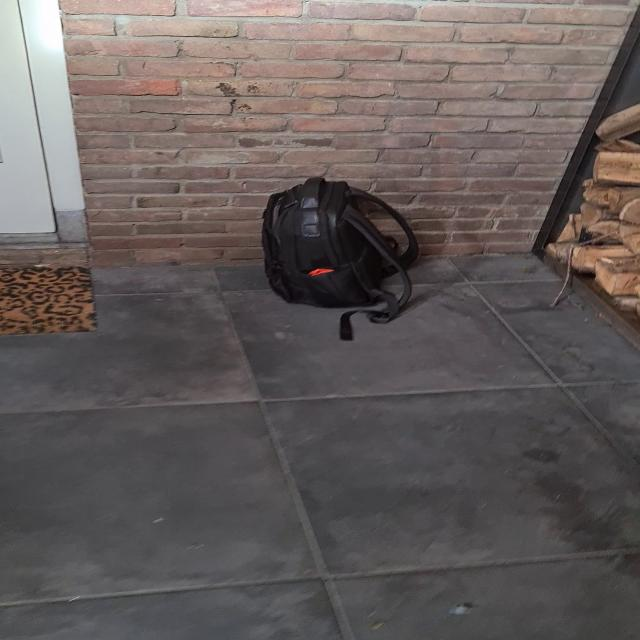backpack: (253, 175, 417, 322)
